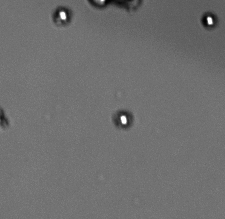Living Cell: (113, 108, 134, 130), (51, 6, 72, 26), (200, 10, 218, 30)
